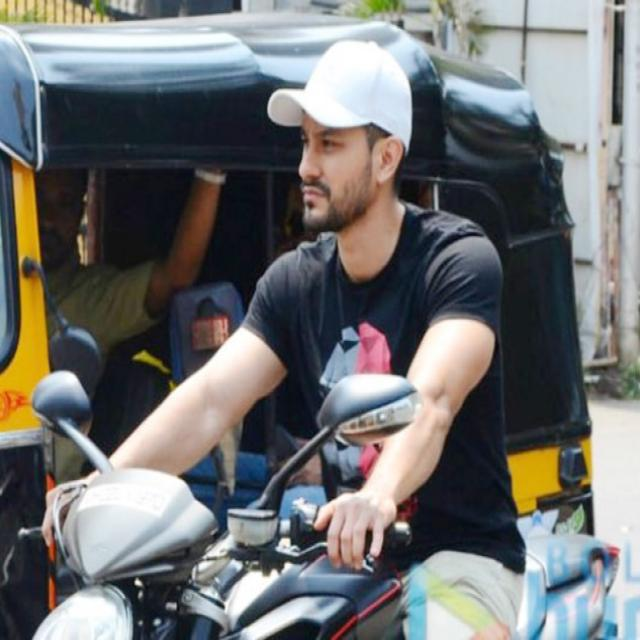no_helmet: (267, 39, 412, 152)
